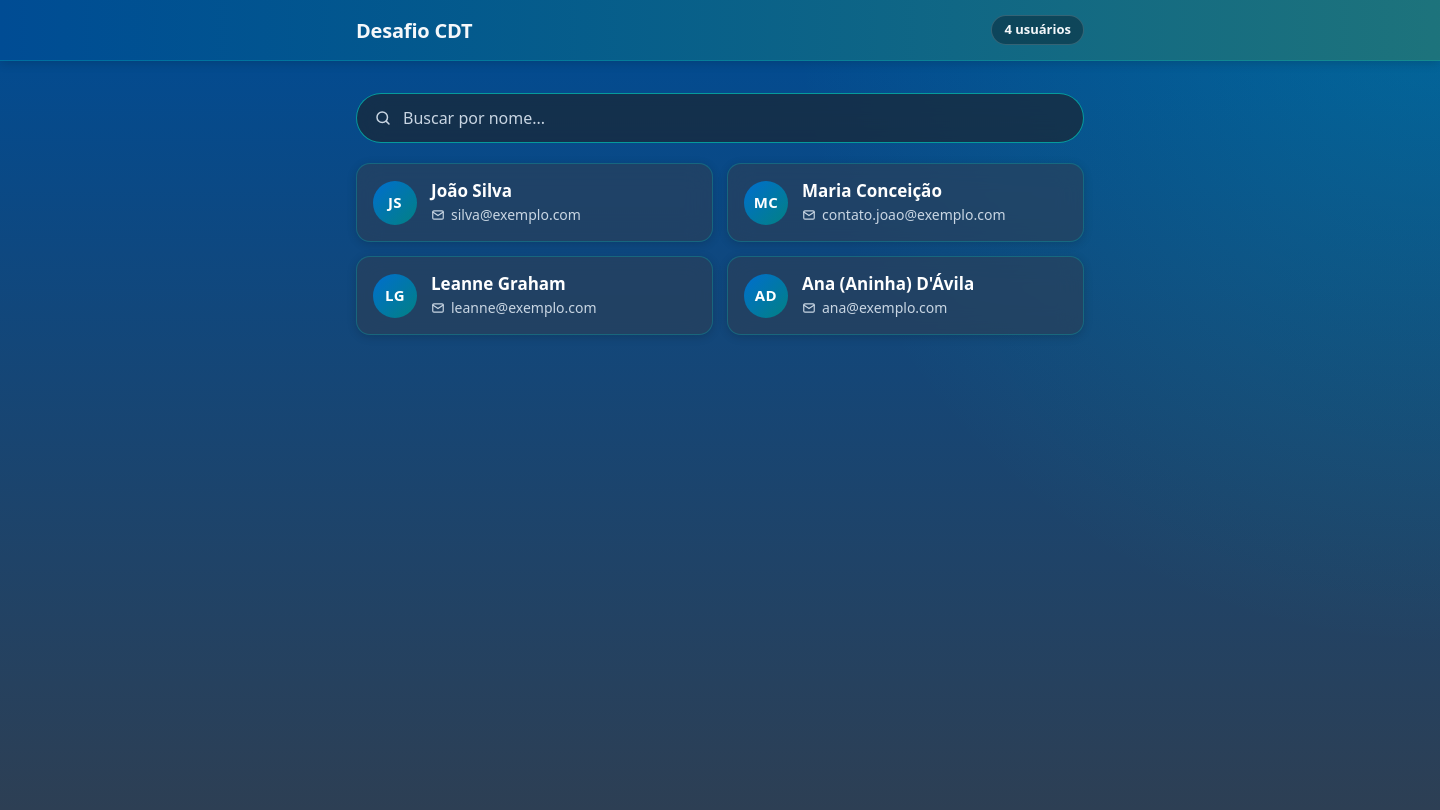
Test case: App › modal de detalhes › abre o usuário certo depois de filtrar a lista
Expected: the list is shown, [356, 163, 1084, 335]
Type "conceicao" into the search field labelled "Buscar por nome". click: (720, 118)
box: [356, 93, 1084, 143]
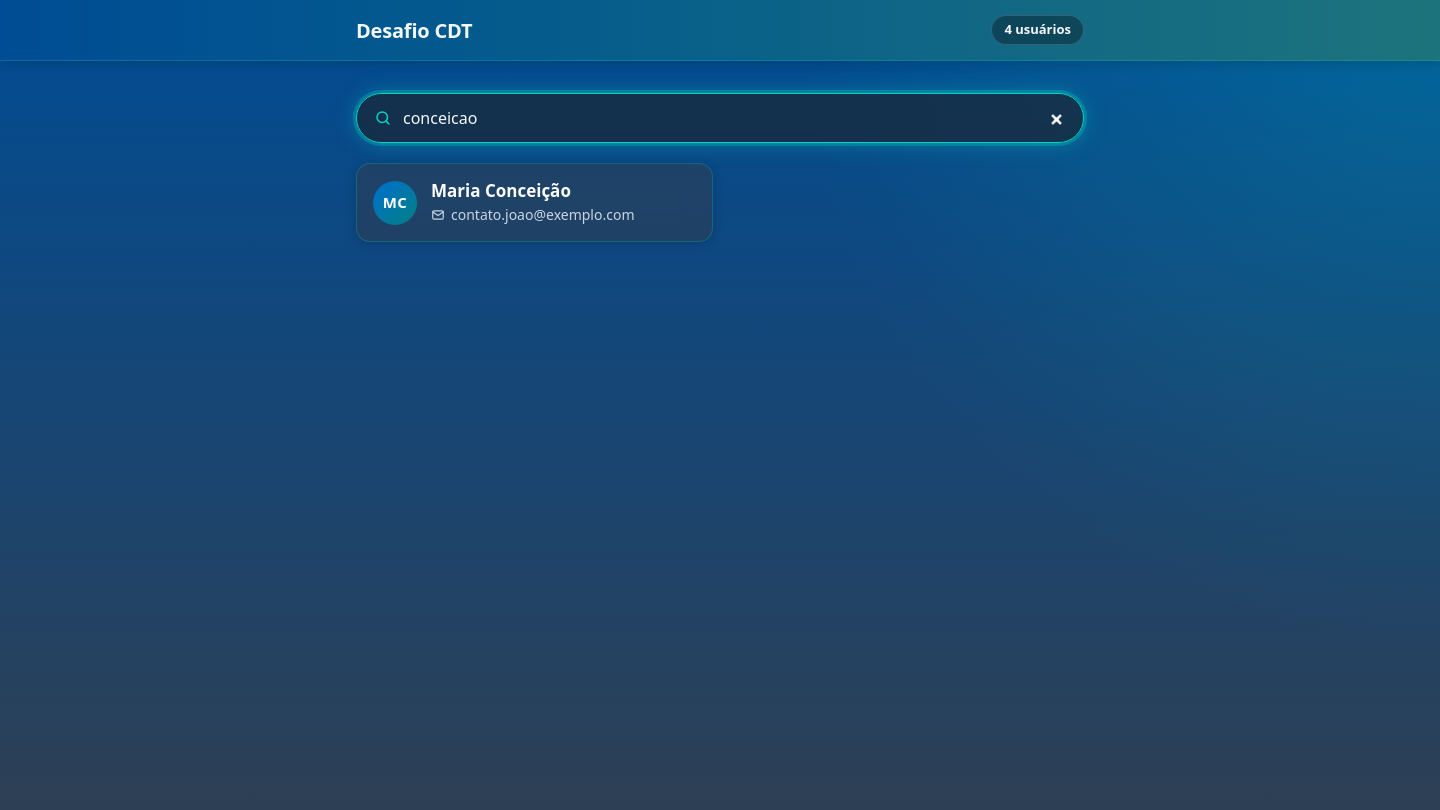
Click the button "Maria Conceição". click: (501, 191)
box: [431, 180, 571, 202]
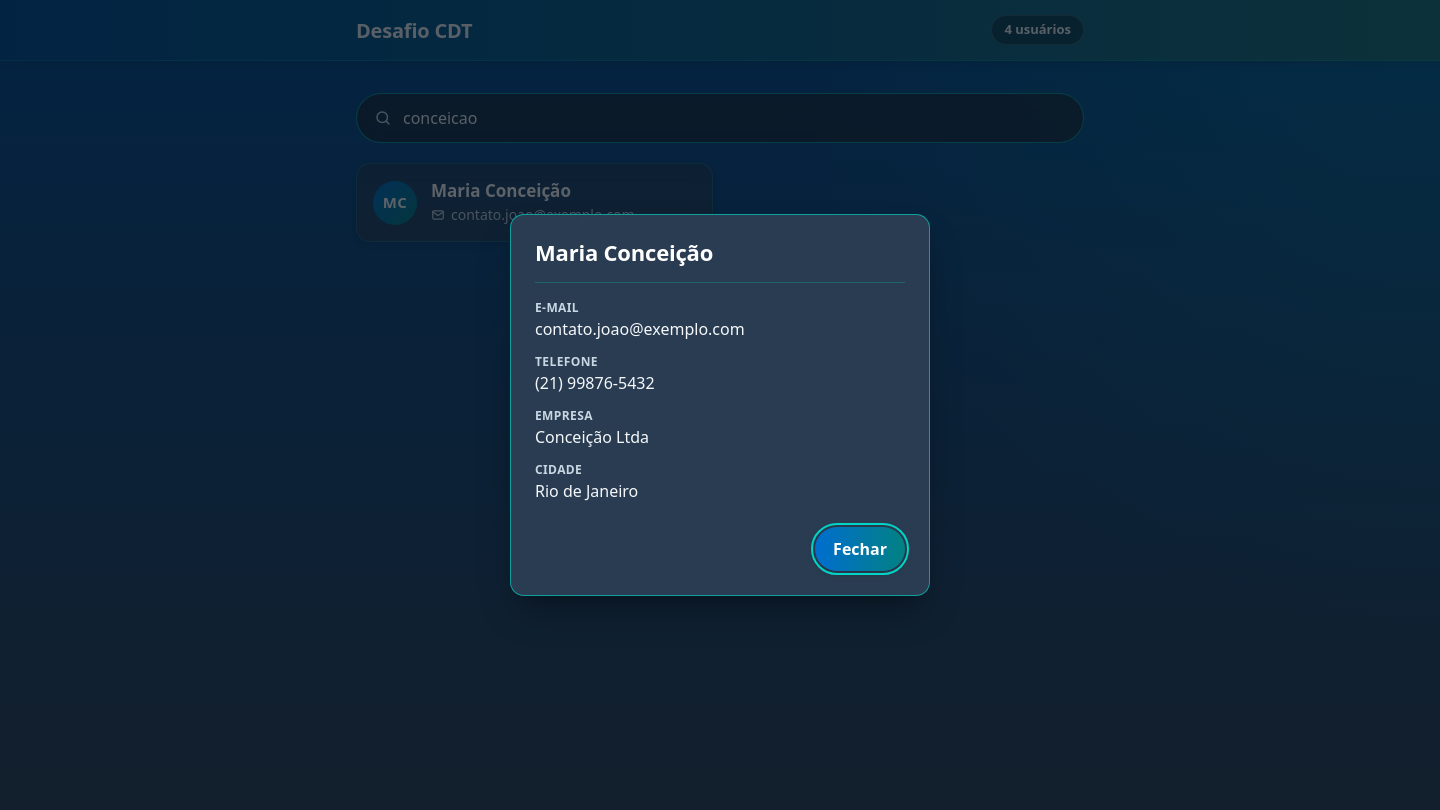
Expected: the dialog "Maria Conceição" is shown, [510, 214, 930, 596]
